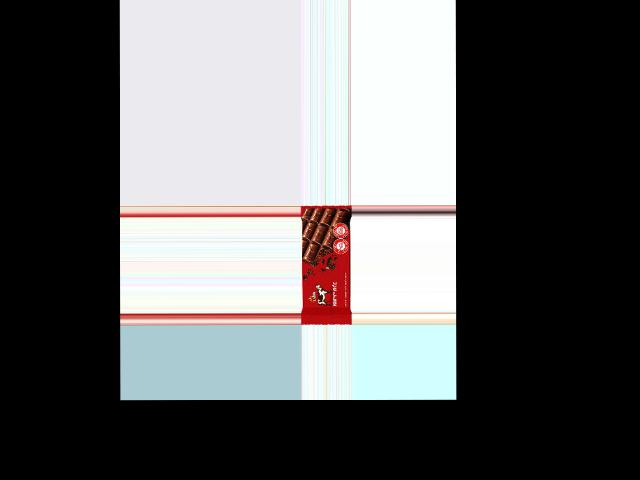chocolate: (301, 207, 351, 325)
